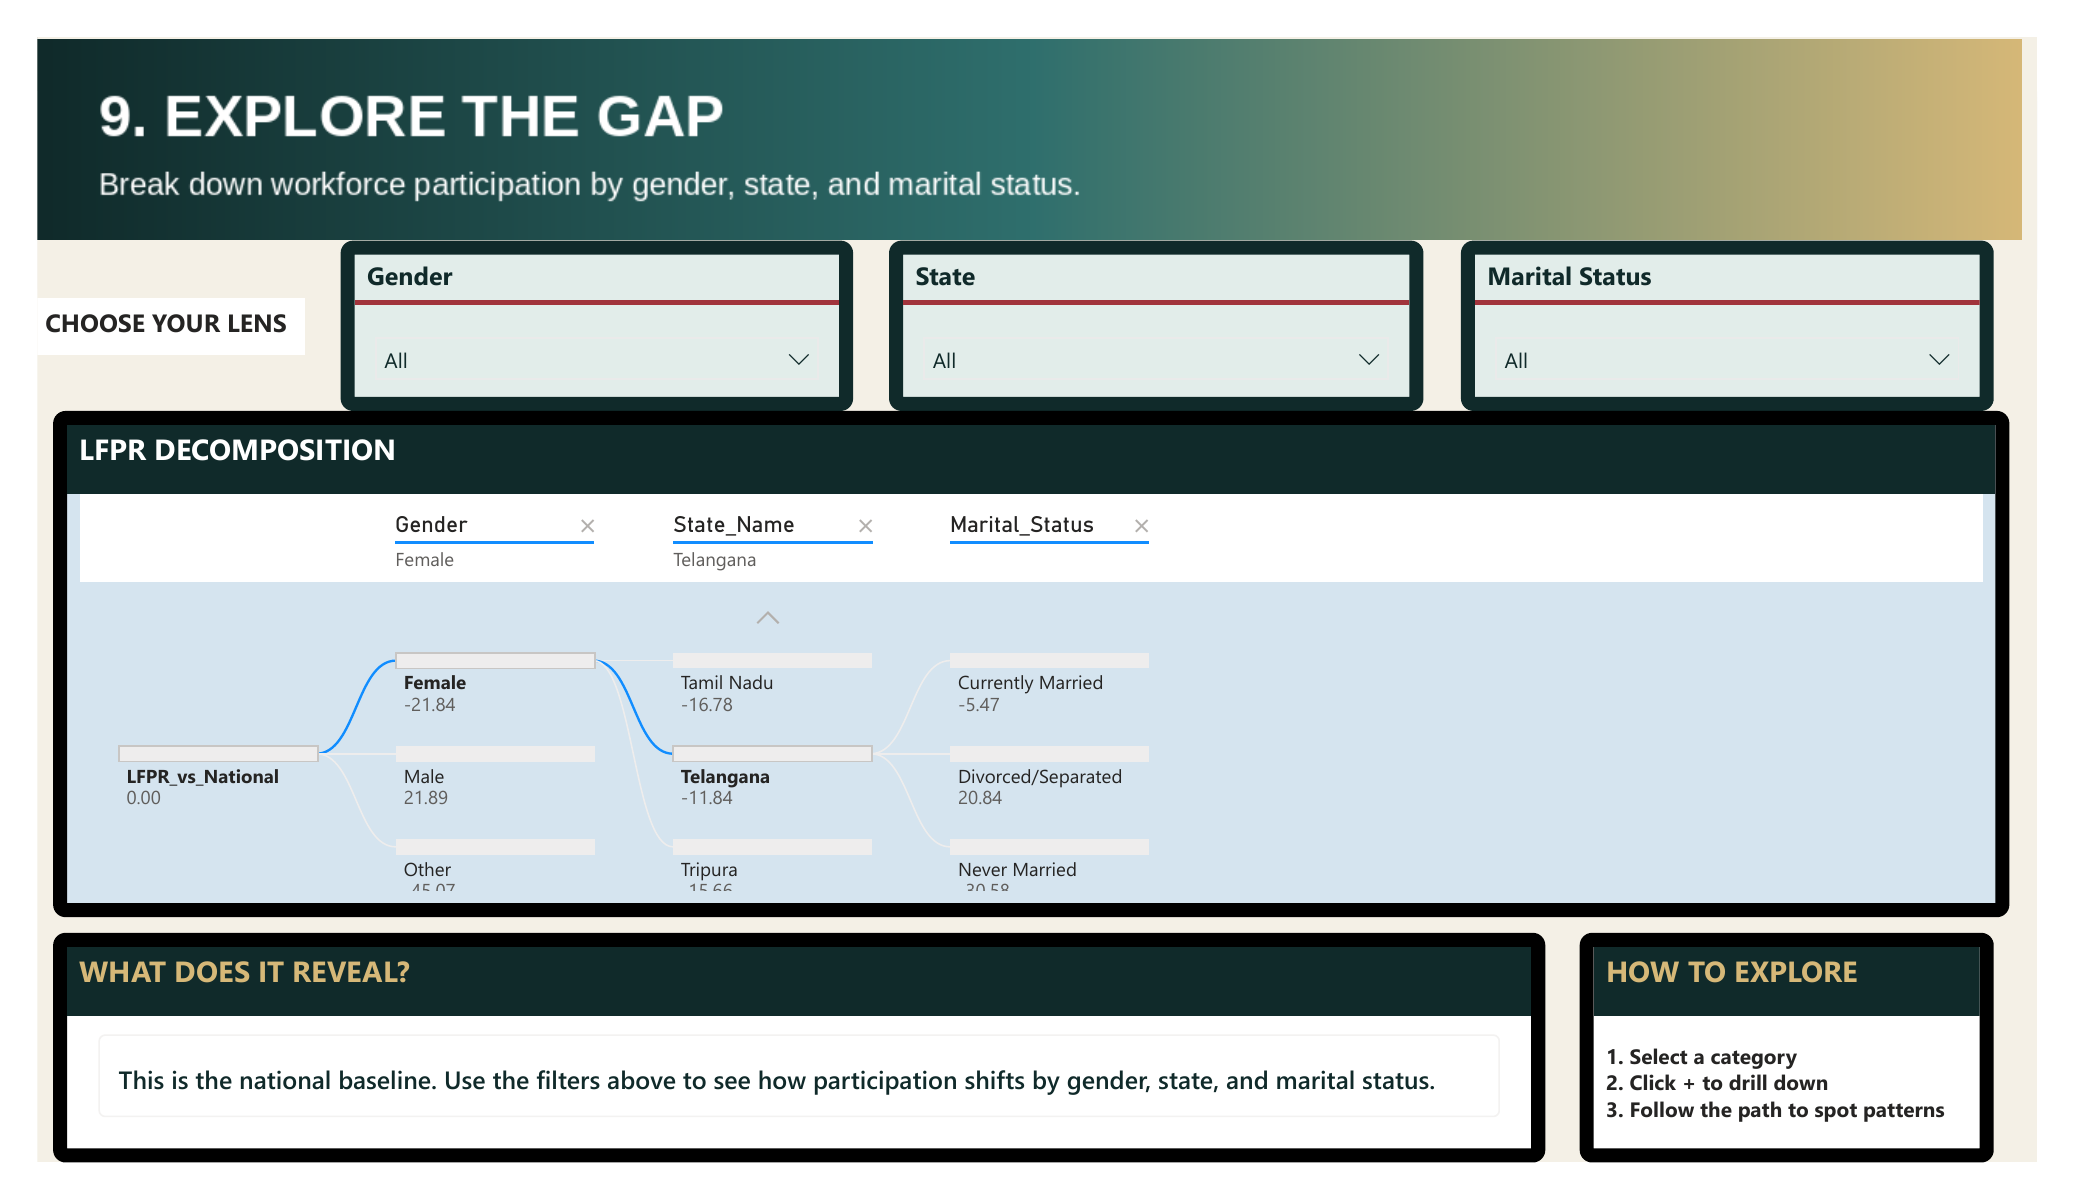

This screenshot's page, from the dashboard's own definition file:
{"tool":"powerbi","page":{"name":"9. Explore The Gap","canvas":[1280,720],"ordinal":9},"visuals":[{"type":"image","box":[0,0,1270.3,130],"z":0},{"type":"textbox","box":[0,167.1,171.3,36.2],"z":1000},{"type":"slicer","title":"Gender","fields":{"Values":["PLFS_Main.Gender"]},"box":[193.9,130.5,328,108.5],"z":2000},{"type":"slicer","title":"State","fields":{"Values":["State_Lookup.State_Name"]},"box":[545.1,130.5,341.4,108.6],"z":3000},{"type":"slicer","title":"Marital Status","fields":{"Values":["PLFS_Main.Marital_Status"]},"box":[911,130.5,341.4,108.6],"z":4000},{"type":"decompositionTreeVisual","title":"LFPR DECOMPOSITION ","fields":{"Analyze":["_Measures.LFPR_vs_National"],"ExplainBy":["PLFS_Main.Gender","State_Lookup.State_Name","PLFS_Main.Marital_Status"]},"box":[9.8,239,1252.4,324.4],"z":5000},{"type":"cardVisual","title":"WHAT DOES IT REVEAL?","fields":{"Data":["_Measures.Page9_Insight_Text"]},"box":[9.8,573.2,954.9,146.3],"z":6000},{"type":"textbox","title":"HOW TO EXPLORE","box":[986.6,573.2,265.9,146.3],"z":7000}]}

Visuals, with their boxes in screenshot pixels (x1, y1, x2, y2):
image: l=43, t=32, r=2002, b=233
textbox: l=43, t=290, r=307, b=346
"Gender" slicer: l=342, t=234, r=848, b=401
"State" slicer: l=884, t=234, r=1410, b=401
"Marital Status" slicer: l=1448, t=234, r=1974, b=401
"LFPR DECOMPOSITION " decompositionTreeVisual: l=58, t=401, r=1990, b=901
"WHAT DOES IT REVEAL?" cardVisual: l=58, t=916, r=1531, b=1142
"HOW TO EXPLORE" textbox: l=1565, t=916, r=1975, b=1142
